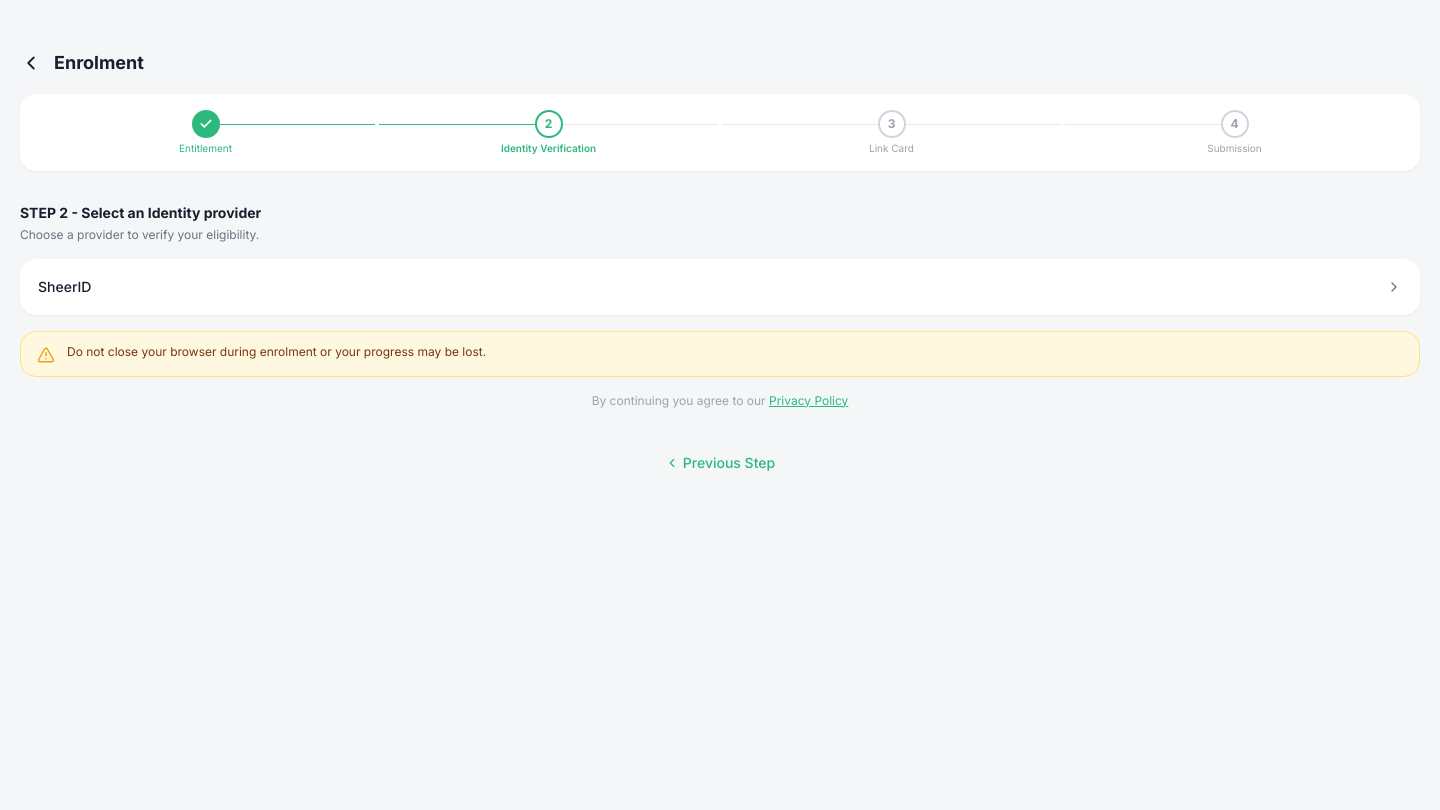
Test: EnrolmentStep2Page › clicking SheerID opens modal
This screenshot has width=1440, height=810.
Click the button "SheerID": (65, 286) [20, 258, 1420, 314]
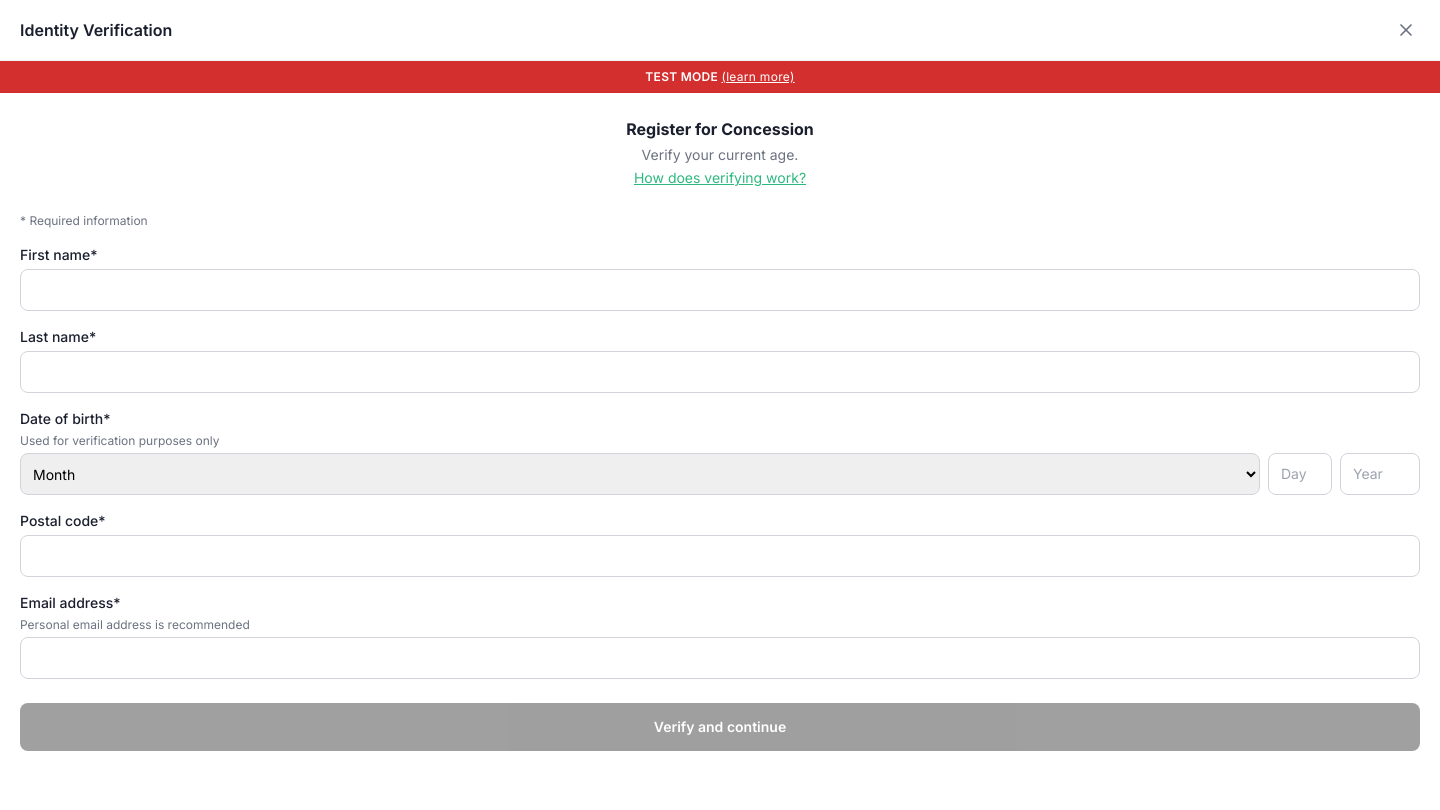
expect the heading "Register for Concession" is shown: met, box [626, 119, 814, 139]
